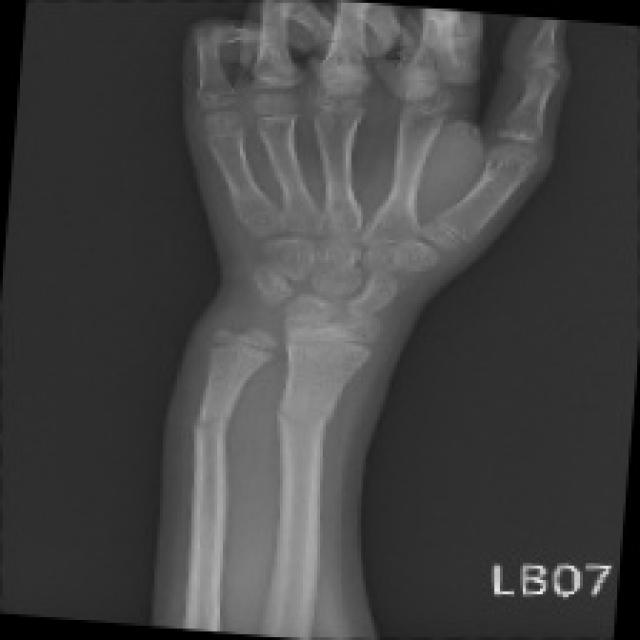fracture: (270, 379, 346, 480), (184, 379, 239, 475)
